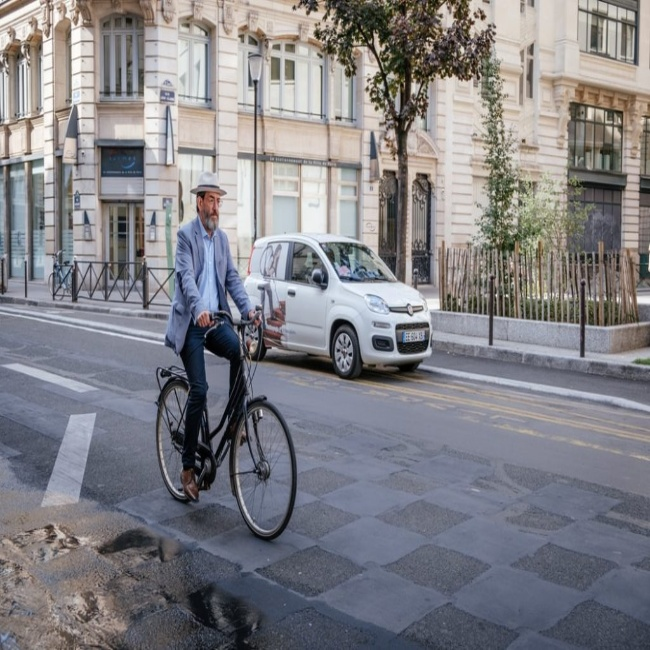Shirt: (164, 214, 254, 356)
